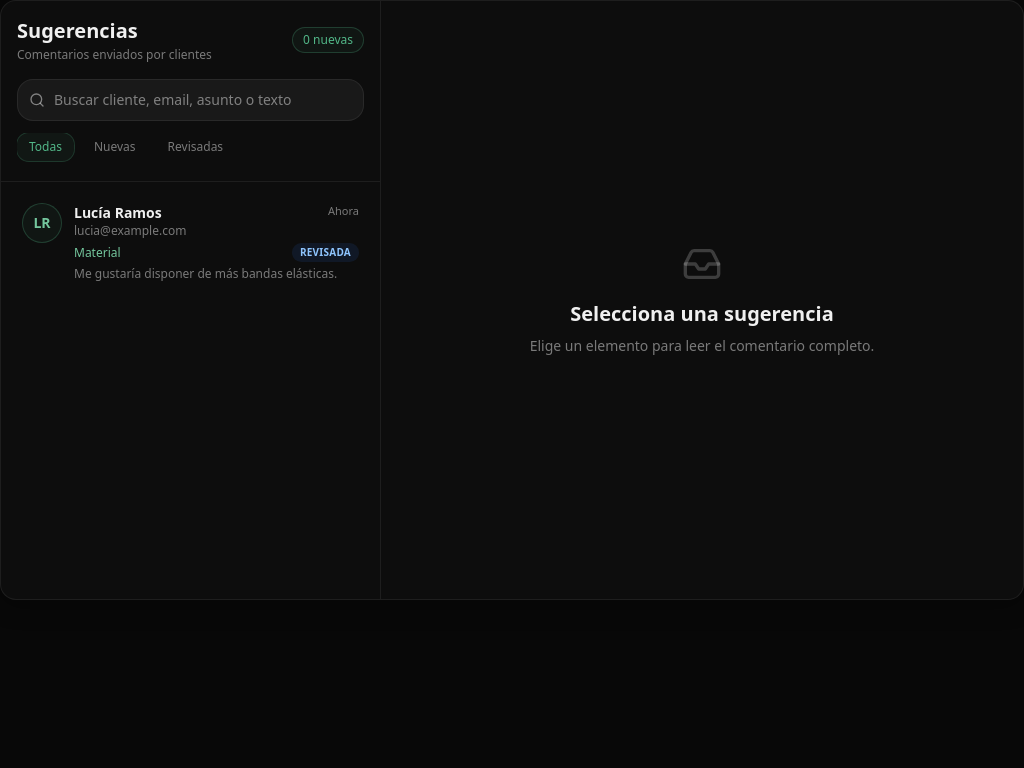
Test case: CustomerSuggestionsPanel › requires confirmation, supports cancel and clears detail after deletion
What coordinates should you click on to do the following:
click the button "Lucía Ramos"
I would click on:
 (42, 223)
Its box is [9,190,372,295].
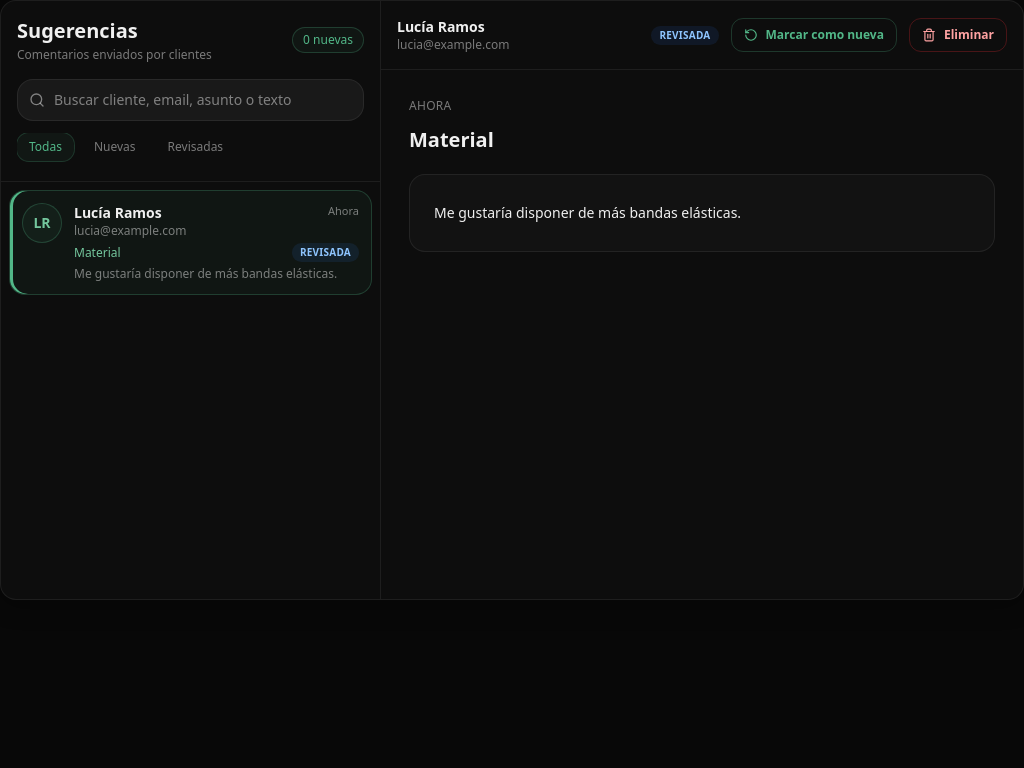
What coordinates should you click on to do the following:
click the button "Eliminar"
I would click on:
 (958, 35)
Its box is [909,18,1007,52].
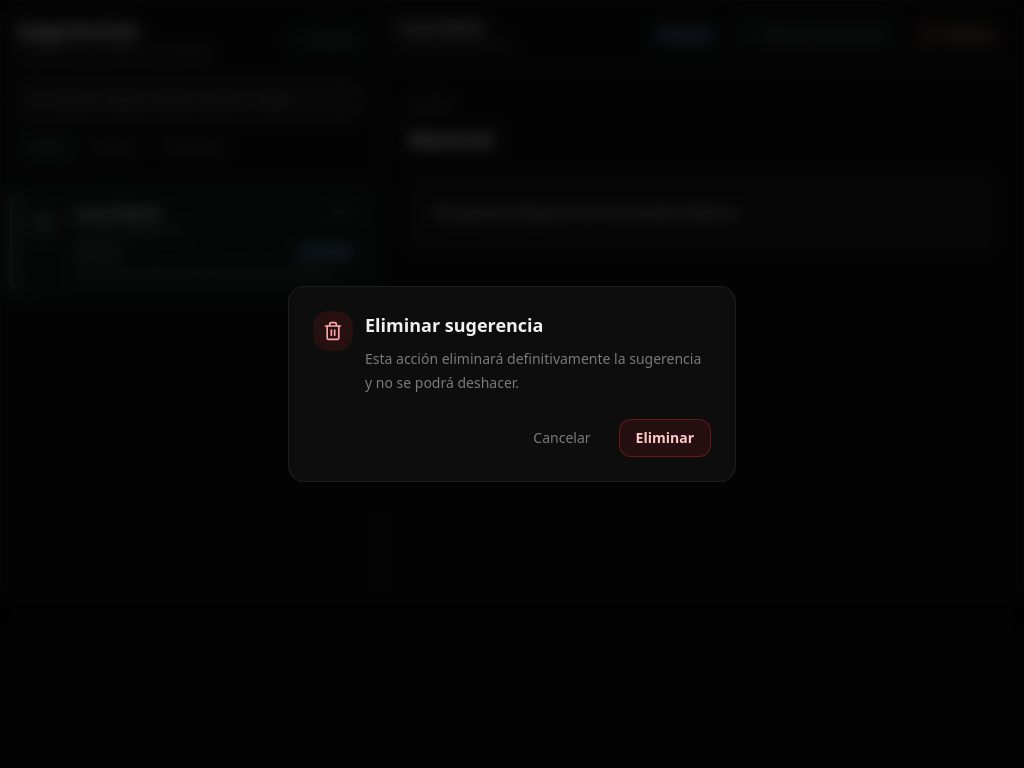
Expected: the text "Esta acción eliminará definitivamente la sugerencia y no se podrá deshacer." is shown, [365,347,711,395]
What coordinates should you click on to do the following:
click the button "Cancelar"
I would click on:
 (562, 438)
Its box is [517,419,607,457].
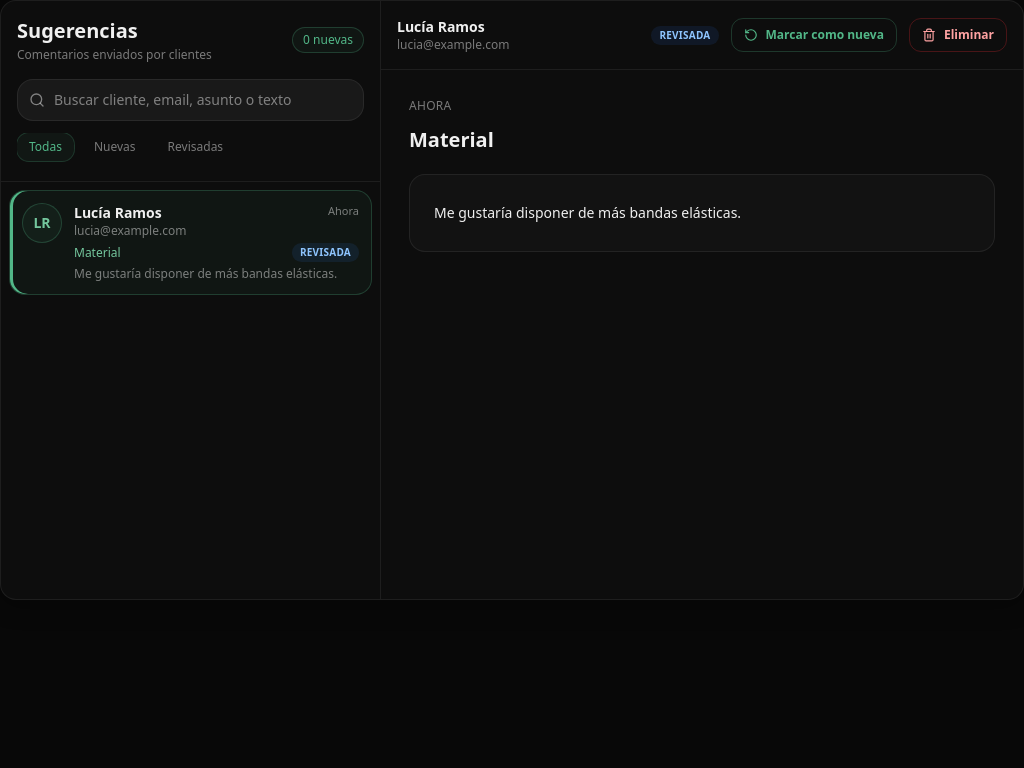
Expected: the heading "Eliminar sugerencia" is gone
What coordinates should you click on to do the following:
click the button "Eliminar"
I would click on:
 (958, 35)
Its box is [909,18,1007,52].
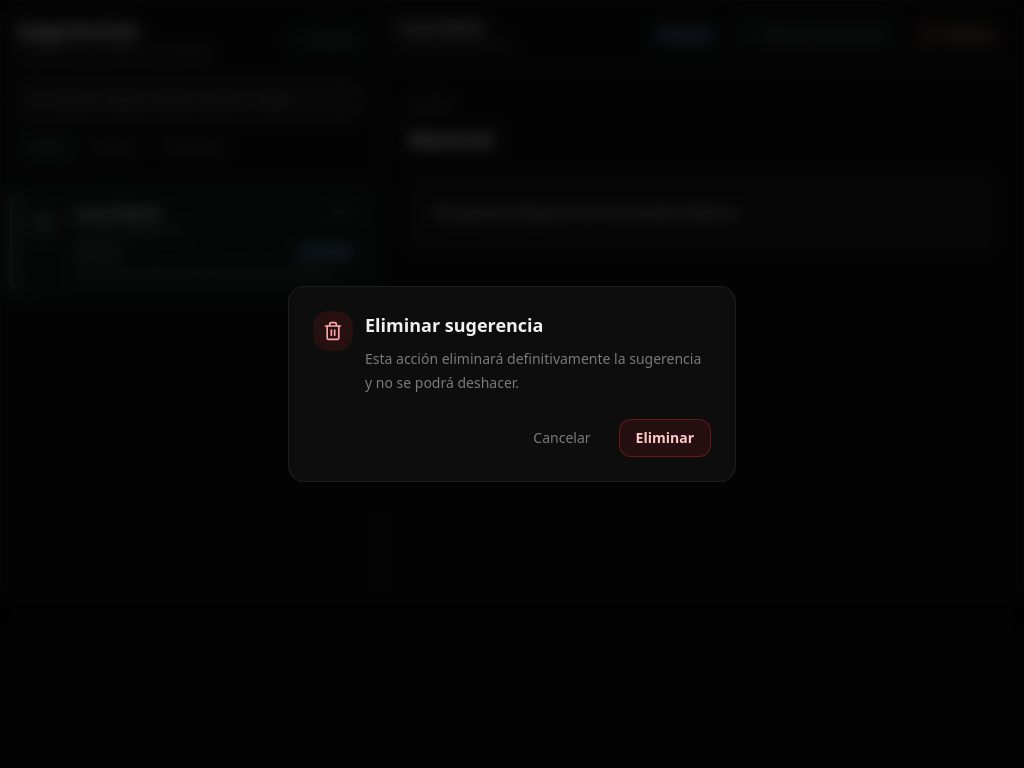
What coordinates should you click on to do the following:
click the button "Eliminar"
I would click on:
 (665, 438)
Its box is [619,419,711,457].
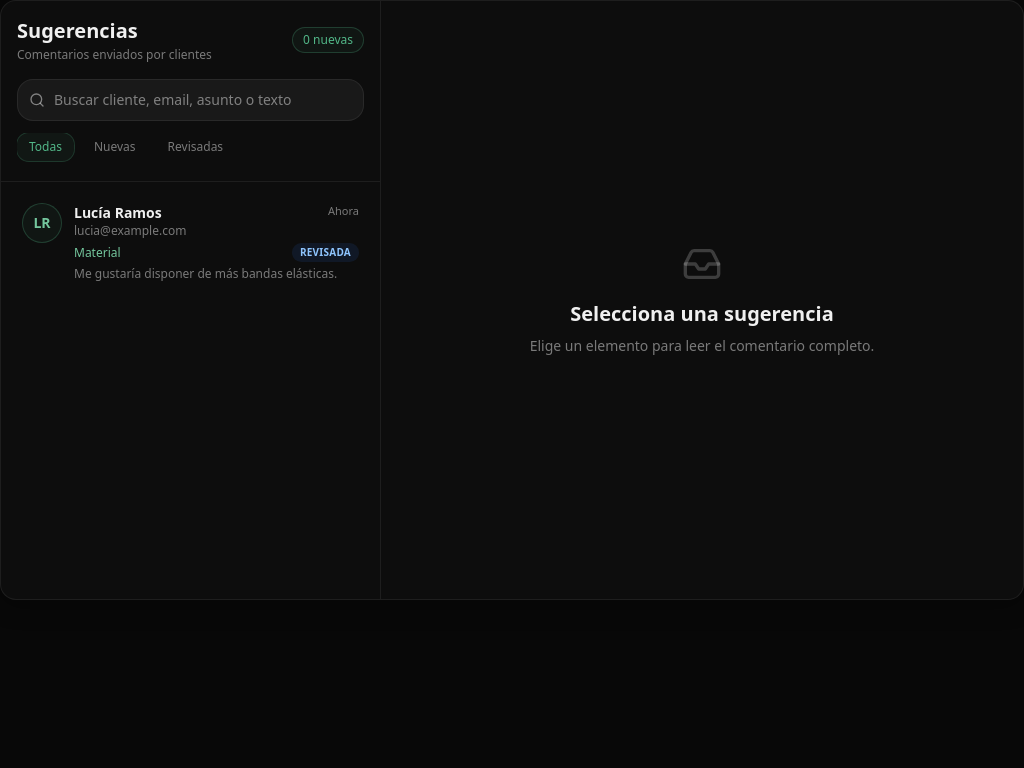
Expected: the heading "Eliminar sugerencia" is gone
Expected: the heading "Selecciona una sugerencia" is shown, [570,300,834,328]
